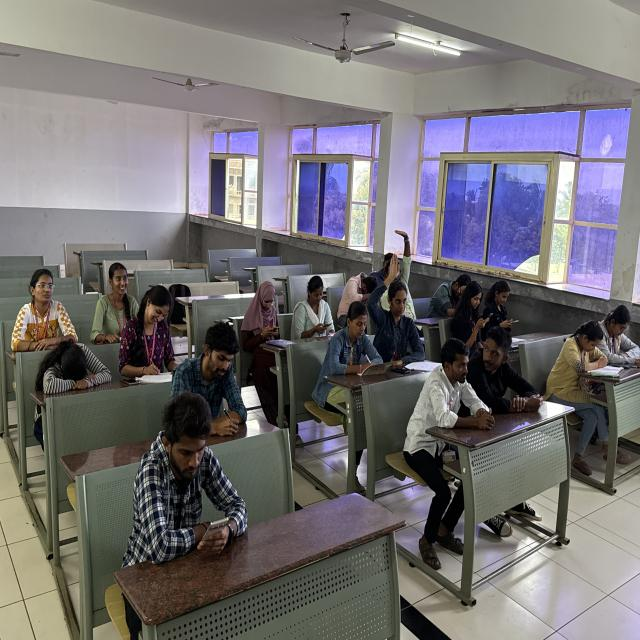Hand Rising: (370, 250, 423, 366), (382, 222, 418, 316)
Reading: (549, 314, 618, 398), (598, 301, 640, 373)
Sleeping: (30, 332, 121, 415), (336, 257, 386, 315)
Using Phone: (128, 386, 251, 550), (239, 276, 285, 361), (291, 272, 338, 348), (451, 281, 493, 346), (484, 277, 525, 343)
Writing: (166, 320, 262, 438), (315, 299, 389, 391), (119, 282, 184, 381)
